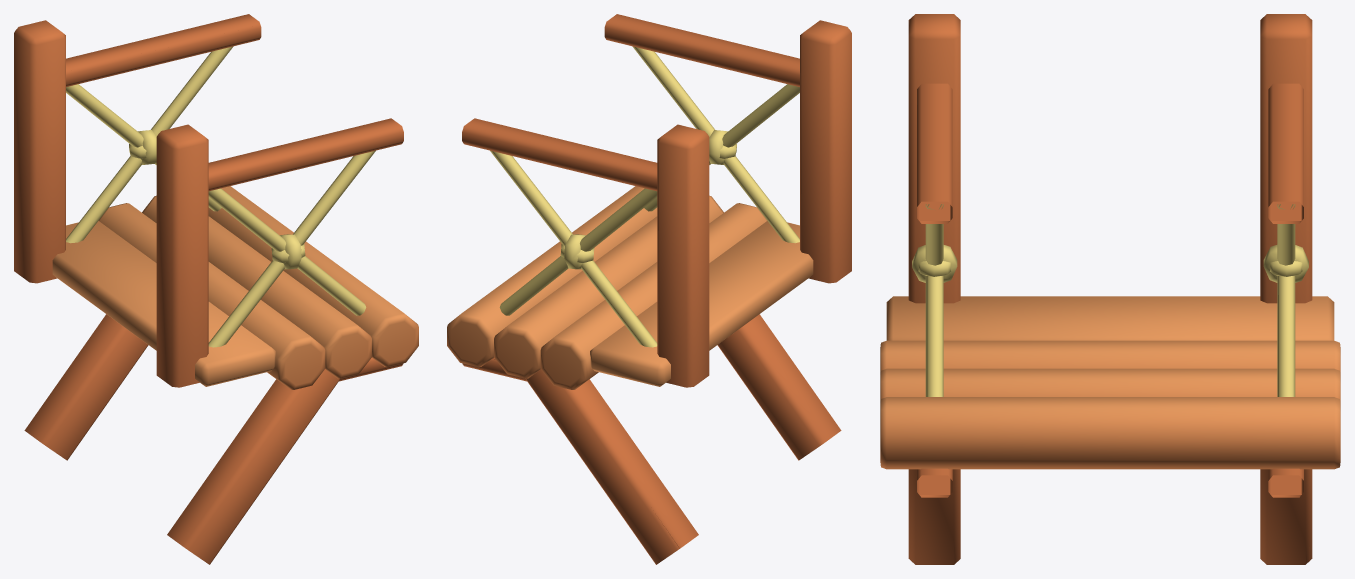
Rendered from bridge_start.fbx.
3 renders of one model, left to right at view 1: azimuth 30°, elevation 25°; view 2: azimuth 150°, elevation 25°; view 3: azimuth 270°, elevation 25°, orthographic. The views are drawn at different scales.
Visible parts, largest first — view 1: bridge_start; view 2: bridge_start; view 3: bridge_start, bridge_start low.
Part boxes in pixels (x1,y1,x2,y2): bridge_start: [14, 14, 418, 564]; bridge_start: [447, 14, 851, 564]; bridge_start: [880, 14, 1340, 564]; bridge_start low: [919, 201, 1309, 561].
Size of the model in its own units: 100 by 176 by 139.
1 material, 1 textured.
